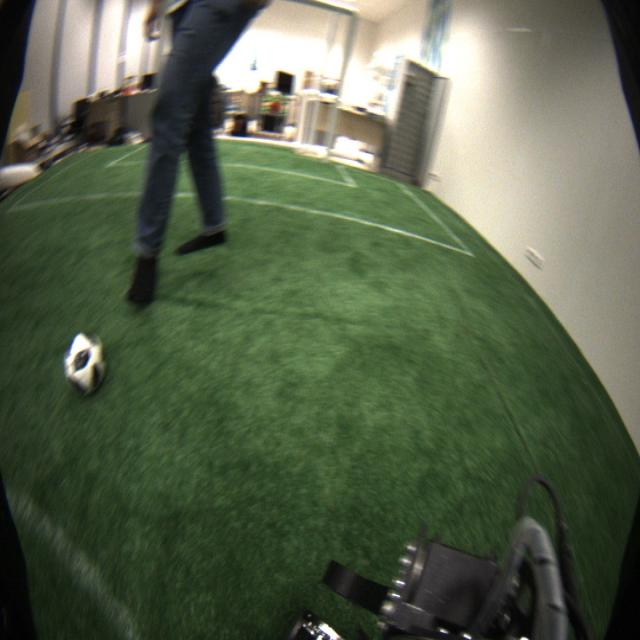ball: (64, 330, 108, 394)
goalpost: (320, 12, 362, 162)
